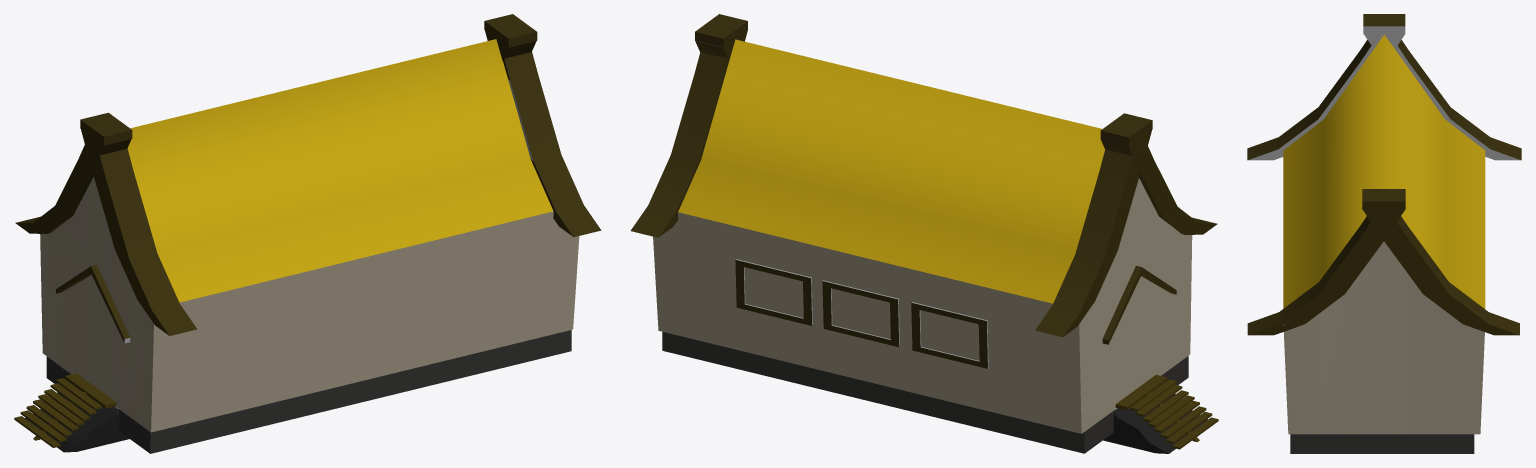
Rendered from Maison 1 proto.fbx.
The picture shows the model from 3 angles, left to right: view 1: azimuth 30°, elevation 25°; view 2: azimuth 150°, elevation 25°; view 3: azimuth 270°, elevation 25°; orthographic projection. The views are drawn at different scales.
Parts seen in each view (by area): view 1: pCube21, pCube22, pCube24; view 2: pCube21, pCube22, pCube24; view 3: pCube21, pCube22.
Boxes of the visible parts, box(x1,y1,x2,y2) form: pCube21: box(14, 14, 601, 452); pCube22: box(46, 330, 571, 453); pCube24: box(65, 373, 116, 408); pCube21: box(630, 14, 1218, 453); pCube22: box(662, 331, 1188, 453); pCube24: box(1115, 375, 1167, 410); pCube21: box(1247, 14, 1521, 434); pCube22: box(1290, 434, 1474, 453).
Bounding box in the file's own units: 6.52 × 3.79 × 3.55.
